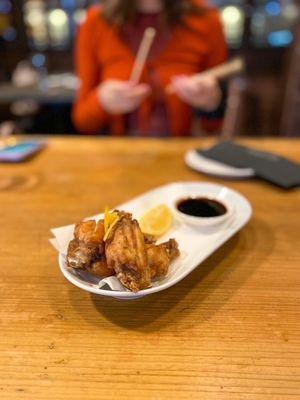curry: (1, 132, 300, 396)
